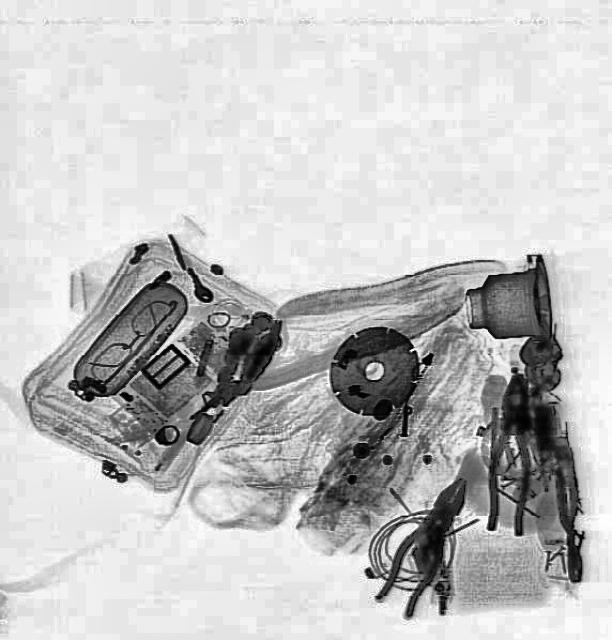Pliers: (369, 468, 481, 620), (480, 372, 540, 536), (551, 453, 587, 581)
